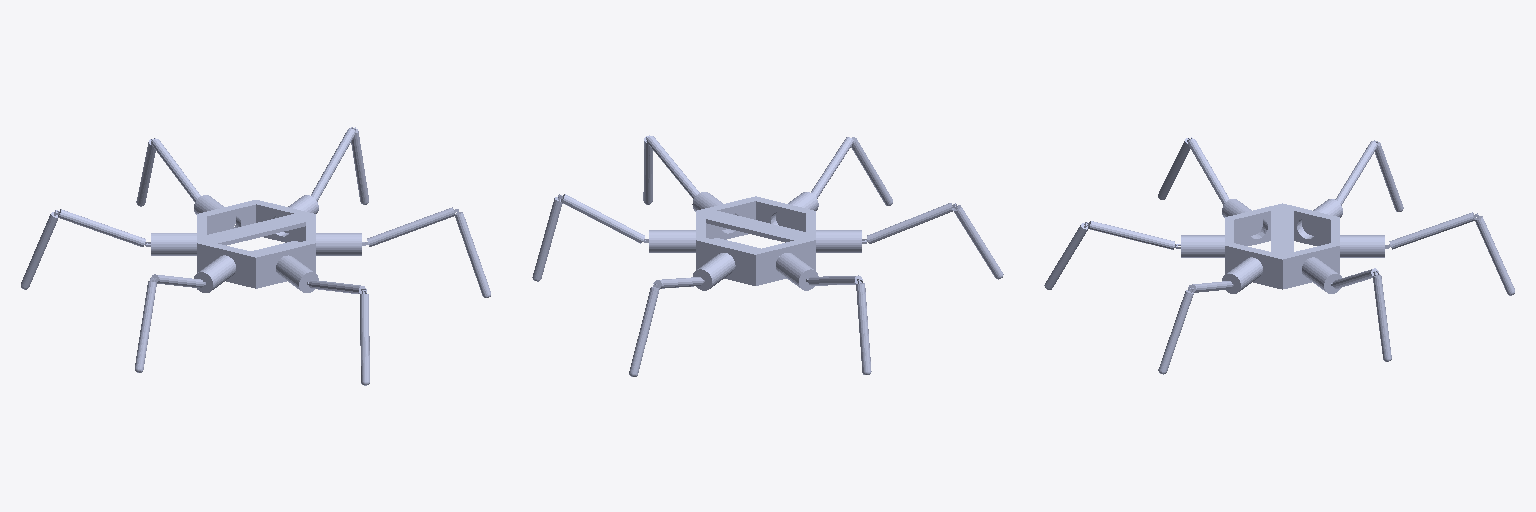
robot.urdf — urdf_bakchodi:
<?xml version="1.0" encoding="utf-8"?>
<!-- This URDF was automatically created by SolidWorks to URDF Exporter! Originally created by [author] ([email redacted]) 
     Commit Version: 1.6.0-1-g15f4949  Build Version: 1.6.7594.29634
     For more information, please see http://wiki.ros.org/sw_urdf_exporter -->
<robot
  name="urdf_bakchodi">
  <link
    name="link_1">
    <inertial>
      <origin
        xyz="-1.6529055557047E-07 -4.05828624854812E-06 0.0750014985203898"
        rpy="0 0 0" />
      <mass
        value="19.9950067969027" />
      <inertia
        ixx="0.334788848635103"
        ixy="8.31458883562114E-09"
        ixz="2.0443852111815E-08"
        iyy="0.368256213908722"
        iyz="1.87868476087456E-08"
        izz="0.6375748872154" />
    </inertial>
    <visual>
      <origin
        xyz="0 0 0"
        rpy="0 0 0" />
      <geometry>
        <mesh
          filename="package://urdf_bakchodi/meshes/link_1.STL" />
      </geometry>
      <material
        name="">
        <color
          rgba="0.792156862745098 0.819607843137255 0.933333333333333 1" />
      </material>
    </visual>
    <collision>
      <origin
        xyz="0 0 0"
        rpy="0 0 0" />
      <geometry>
        <mesh
          filename="package://urdf_bakchodi/meshes/link_1.STL" />
      </geometry>
    </collision>
  </link>
  <link
    name="link_2(1)">
    <inertial>
      <origin
        xyz="-0.00810356313851382 2.67064148573581E-13 -0.214790803607845"
        rpy="0 0 0" />
      <mass
        value="0.504491865664404" />
      <inertia
        ixx="0.00681160148226634"
        ixy="8.67361737988404E-19"
        ixz="-5.98005260761536E-18"
        iyy="0.00681168214152217"
        iyz="1.5811564026396E-17"
        izz="0.000100637529407539" />
    </inertial>
    <visual>
      <origin
        xyz="0 0 0"
        rpy="0 0 0" />
      <geometry>
        <mesh
          filename="package://urdf_bakchodi/meshes/link_2(1).STL" />
      </geometry>
      <material
        name="">
        <color
          rgba="0.792156862745098 0.819607843137255 0.933333333333333 1" />
      </material>
    </visual>
    <collision>
      <origin
        xyz="0 0 0"
        rpy="0 0 0" />
      <geometry>
        <mesh
          filename="package://urdf_bakchodi/meshes/link_2(1).STL" />
      </geometry>
    </collision>
  </link>
  <joint
    name="j1_1"
    type="continuous">
    <origin
      xyz="-0.41522 -0.23043 0.074128"
      rpy="2.0035 0.10823 2.0944" />
    <parent
      link="link_1" />
    <child
      link="link_2(1)" />
    <axis
      xyz="1 0 0" />
  </joint>
  <link
    name="link_3(1)">
    <inertial>
      <origin
        xyz="-0.0947261317748437 -0.190215442434137 0.00810286240868408"
        rpy="0 0 0" />
      <mass
        value="0.498815935879898" />
      <inertia
        ixx="0.00529685840188488"
        ixy="-0.00258844740197998"
        ixz="1.73472347597681E-18"
        iyy="0.00138814032549684"
        iyz="5.42101086242752E-18"
        izz="0.00658581250827965" />
    </inertial>
    <visual>
      <origin
        xyz="0 0 0"
        rpy="0 0 0" />
      <geometry>
        <mesh
          filename="package://urdf_bakchodi/meshes/link_3(1).STL" />
      </geometry>
      <material
        name="">
        <color
          rgba="0.792156862745098 0.819607843137255 0.933333333333333 1" />
      </material>
    </visual>
    <collision>
      <origin
        xyz="0 0 0"
        rpy="0 0 0" />
      <geometry>
        <mesh
          filename="package://urdf_bakchodi/meshes/link_3(1).STL" />
      </geometry>
    </collision>
  </link>
  <joint
    name="j2_1"
    type="continuous">
    <origin
      xyz="0 0 -0.43"
      rpy="-1.5708 -1.1671 1.5708" />
    <parent
      link="link_2(1)" />
    <child
      link="link_3(1)" />
    <axis
      xyz="0 0 1" />
  </joint>
  <link
    name="link_2(2)">
    <inertial>
      <origin
        xyz="-0.21083742886469 0.0410203352524196 0.0188772132838387"
        rpy="0 0 0" />
      <mass
        value="0.504491865664404" />
      <inertia
        ixx="0.000345406956335757"
        ixy="0.0012580725223286"
        ixz="1.08151744761832E-15"
        iyy="0.00656691271459396"
        iyz="-2.10445486358926E-16"
        izz="0.00681160148226635" />
    </inertial>
    <visual>
      <origin
        xyz="0 0 0"
        rpy="0 0 0" />
      <geometry>
        <mesh
          filename="package://urdf_bakchodi/meshes/link_2(2).STL" />
      </geometry>
      <material
        name="">
        <color
          rgba="0.792156862745098 0.819607843137255 0.933333333333333 1" />
      </material>
    </visual>
    <collision>
      <origin
        xyz="0 0 0"
        rpy="0 0 0" />
      <geometry>
        <mesh
          filename="package://urdf_bakchodi/meshes/link_2(2).STL" />
      </geometry>
    </collision>
  </link>
  <joint
    name="j1_2"
    type="continuous">
    <origin
      xyz="0.018274 -0.47481 0.070255"
      rpy="-1.2823 0.48453 1.7081" />
    <parent
      link="link_1" />
    <child
      link="link_2(2)" />
    <axis
      xyz="0 0 1" />
  </joint>
  <link
    name="link_3(2)">
    <inertial>
      <origin
        xyz="-0.211143760806933 0.0239429917538433 -0.0188761379470315"
        rpy="0 0 0" />
      <mass
        value="0.498815935879898" />
      <inertia
        ixx="0.00018146250815652"
        ixy="0.000726240456695398"
        ixz="-2.03919578161879E-16"
        iyy="0.0065035362192252"
        iyz="2.32608774956858E-17"
        izz="0.00658581250827966" />
    </inertial>
    <visual>
      <origin
        xyz="0 0 0"
        rpy="0 0 0" />
      <geometry>
        <mesh
          filename="package://urdf_bakchodi/meshes/link_3(2).STL" />
      </geometry>
      <material
        name="">
        <color
          rgba="0.792156862745098 0.819607843137255 0.933333333333333 1" />
      </material>
    </visual>
    <collision>
      <origin
        xyz="0 0 0"
        rpy="0 0 0" />
      <geometry>
        <mesh
          filename="package://urdf_bakchodi/meshes/link_3(2).STL" />
      </geometry>
    </collision>
  </link>
  <joint
    name="j2_2"
    type="continuous">
    <origin
      xyz="-0.42209 0.082121 0"
      rpy="-3.1416 0 -1.7494" />
    <parent
      link="link_2(2)" />
    <child
      link="link_3(2)" />
    <axis
      xyz="0 0 1" />
  </joint>
  <link
    name="link_2(3)">
    <inertial>
      <origin
        xyz="0.155834156805056 0.147820177537882 0.0142552690889025"
        rpy="0 0 0" />
      <mass
        value="0.504491865664404" />
      <inertia
        ixx="0.00327916668342931"
        ixy="-0.00335085114121483"
        ixz="1.70219741080224E-17"
        iyy="0.0036331529875004"
        iyz="1.6357900277375E-17"
        izz="0.00681160148226634" />
    </inertial>
    <visual>
      <origin
        xyz="0 0 0"
        rpy="0 0 0" />
      <geometry>
        <mesh
          filename="package://urdf_bakchodi/meshes/link_2(3).STL" />
      </geometry>
      <material
        name="">
        <color
          rgba="0.792156862745098 0.819607843137255 0.933333333333333 1" />
      </material>
    </visual>
    <collision>
      <origin
        xyz="0 0 0"
        rpy="0 0 0" />
      <geometry>
        <mesh
          filename="package://urdf_bakchodi/meshes/link_2(3).STL" />
      </geometry>
    </collision>
  </link>
  <joint
    name="j1_3"
    type="continuous">
    <origin
      xyz="0.4182 -0.22528 0.072296"
      rpy="1.3639 0.38863 -0.60297" />
    <parent
      link="link_1" />
    <child
      link="link_2(3)" />
    <axis
      xyz="0 0 1" />
  </joint>
  <link
    name="link_3(3)">
    <inertial>
      <origin
        xyz="0.0579003990729846 -0.204456592871259 0.0142543045889016"
        rpy="0 0 0" />
      <mass
        value="0.498815935879898" />
      <inertia
        ixx="0.00610428899257975"
        ixy="0.00170061672599953"
        ixz="-2.38524477946811E-18"
        iyy="0.000580709734801973"
        iyz="7.15573433840433E-18"
        izz="0.00658581250827966" />
    </inertial>
    <visual>
      <origin
        xyz="0 0 0"
        rpy="0 0 0" />
      <geometry>
        <mesh
          filename="package://urdf_bakchodi/meshes/link_3(3).STL" />
      </geometry>
      <material
        name="">
        <color
          rgba="0.792156862745098 0.819607843137255 0.933333333333333 1" />
      </material>
    </visual>
    <collision>
      <origin
        xyz="0 0 0"
        rpy="0 0 0" />
      <geometry>
        <mesh
          filename="package://urdf_bakchodi/meshes/link_3(3).STL" />
      </geometry>
    </collision>
  </link>
  <joint
    name="j2_3"
    type="continuous">
    <origin
      xyz="0.31197 0.29593 0"
      rpy="0 0 0.44765" />
    <parent
      link="link_2(3)" />
    <child
      link="link_3(3)" />
    <axis
      xyz="0 0 1" />
  </joint>
  <link
    name="link_2(4)">
    <inertial>
      <origin
        xyz="-0.0680759478787354 0.203717340044866 1.44121984343437E-05"
        rpy="0 0 0" />
      <mass
        value="0.504491865664404" />
      <inertia
        ixx="0.00613754826111445"
        ixy="0.00201734629085851"
        ixz="2.02528965820292E-16"
        iyy="0.000774771409815259"
        iyz="-6.05174547627096E-16"
        izz="0.00681160148226634" />
    </inertial>
    <visual>
      <origin
        xyz="0 0 0"
        rpy="0 0 0" />
      <geometry>
        <mesh
          filename="package://urdf_bakchodi/meshes/link_2(4).STL" />
      </geometry>
      <material
        name="">
        <color
          rgba="0.792156862745098 0.819607843137255 0.933333333333333 1" />
      </material>
    </visual>
    <collision>
      <origin
        xyz="0 0 0"
        rpy="0 0 0" />
      <geometry>
        <mesh
          filename="package://urdf_bakchodi/meshes/link_2(4).STL" />
      </geometry>
    </collision>
  </link>
  <joint
    name="j1_4"
    type="continuous">
    <origin
      xyz="0.4112 0.23739 0.075003"
      rpy="1.5705 -0.72682 -2.6178" />
    <parent
      link="link_1" />
    <child
      link="link_2(4)" />
    <axis
      xyz="0 0 1" />
  </joint>
  <link
    name="link_3(4)">
    <inertial>
      <origin
        xyz="0.209311813366109 0.0366540498044644 -1.75753837648451E-05"
        rpy="0 0 0" />
      <mass
        value="0.498815935879898" />
      <inertia
        ixx="0.00029211390319112"
        ixy="-0.0011021468801205"
        ixz="-2.44867060655851E-16"
        iyy="0.00639288482419059"
        iyz="-4.27175655959289E-17"
        izz="0.00658581250827965" />
    </inertial>
    <visual>
      <origin
        xyz="0 0 0"
        rpy="0 0 0" />
      <geometry>
        <mesh
          filename="package://urdf_bakchodi/meshes/link_3(4).STL" />
      </geometry>
      <material
        name="">
        <color
          rgba="0.792156862745098 0.819607843137255 0.933333333333333 1" />
      </material>
    </visual>
    <collision>
      <origin
        xyz="0 0 0"
        rpy="0 0 0" />
      <geometry>
        <mesh
          filename="package://urdf_bakchodi/meshes/link_3(4).STL" />
      </geometry>
    </collision>
  </link>
  <joint
    name="j2_4"
    type="continuous">
    <origin
      xyz="-0.13628 0.40783 0"
      rpy="3.1416 0 -2.3724" />
    <parent
      link="link_2(4)" />
    <child
      link="link_3(4)" />
    <axis
      xyz="0 0 1" />
  </joint>
  <link
    name="link_2(5)">
    <inertial>
      <origin
        xyz="-0.16062877292981 -0.142595535068648 0.00503523317546434"
        rpy="0 0 0" />
      <mass
        value="0.504491865664404" />
      <inertia
        ixx="0.00305844985544591"
        ixy="-0.00333186985313675"
        ixz="-1.71195146431958E-16"
        iyy="0.00385386981548379"
        iyz="-1.52085376545478E-16"
        izz="0.00681160148226633" />
    </inertial>
    <visual>
      <origin
        xyz="0 0 0"
        rpy="0 0 0" />
      <geometry>
        <mesh
          filename="package://urdf_bakchodi/meshes/link_2(5).STL" />
      </geometry>
      <material
        name="">
        <color
          rgba="0.792156862745098 0.819607843137255 0.933333333333333 1" />
      </material>
    </visual>
    <collision>
      <origin
        xyz="0 0 0"
        rpy="0 0 0" />
      <geometry>
        <mesh
          filename="package://urdf_bakchodi/meshes/link_2(5).STL" />
      </geometry>
    </collision>
  </link>
  <joint
    name="j1_5"
    type="continuous">
    <origin
      xyz="-0.0050333 0.47481 0.074656"
      rpy="-1.4987 -0.36728 -1.5967" />
    <parent
      link="link_1" />
    <child
      link="link_2(5)" />
    <axis
      xyz="0 0 1" />
  </joint>
  <link
    name="link_3(5)">
    <inertial>
      <origin
        xyz="-0.0475222750500123 -0.207114914853979 -0.00503782034930849"
        rpy="0 0 0" />
      <mass
        value="0.498815935879898" />
      <inertia
        ixx="0.00626146152632296"
        ixy="-0.00141394451663058"
        ixz="-1.06424125755829E-19"
        iyy="0.000423537201058755"
        iyz="-5.2188607376729E-19"
        izz="0.00658581250827966" />
    </inertial>
    <visual>
      <origin
        xyz="0 0 0"
        rpy="0 0 0" />
      <geometry>
        <mesh
          filename="package://urdf_bakchodi/meshes/link_3(5).STL" />
      </geometry>
      <material
        name="">
        <color
          rgba="0.792156862745098 0.819607843137255 0.933333333333333 1" />
      </material>
    </visual>
    <collision>
      <origin
        xyz="0 0 0"
        rpy="0 0 0" />
      <geometry>
        <mesh
          filename="package://urdf_bakchodi/meshes/link_3(5).STL" />
      </geometry>
    </collision>
  </link>
  <joint
    name="j2_5"
    type="continuous">
    <origin
      xyz="-0.32157 -0.28547 0"
      rpy="-3.1416 0 0.53485" />
    <parent
      link="link_2(5)" />
    <child
      link="link_3(5)" />
    <axis
      xyz="0 0 1" />
  </joint>
  <link
    name="link_2(6)">
    <inertial>
      <origin
        xyz="-0.21139741682832 0.0380292186715435 -0.00901168359242732"
        rpy="0 0 0" />
      <mass
        value="0.504491865664404" />
      <inertia
        ixx="0.000311012256476399"
        ixy="0.00116943433027736"
        ixz="-4.55012546737854E-16"
        iyy="0.00660130741445331"
        iyz="8.13151629364128E-17"
        izz="0.00681160148226634" />
    </inertial>
    <visual>
      <origin
        xyz="0 0 0"
        rpy="0 0 0" />
      <geometry>
        <mesh
          filename="package://urdf_bakchodi/meshes/link_2(6).STL" />
      </geometry>
      <material
        name="">
        <color
          rgba="0.792156862745098 0.819607843137255 0.933333333333333 1" />
      </material>
    </visual>
    <collision>
      <origin
        xyz="0 0 0"
        rpy="0 0 0" />
      <geometry>
        <mesh
          filename="package://urdf_bakchodi/meshes/link_2(6).STL" />
      </geometry>
    </collision>
  </link>
  <joint
    name="j1_6"
    type="continuous">
    <origin
      xyz="-0.41567 0.22965 0.073922"
      rpy="1.694 0.2113 -0.49763" />
    <parent
      link="link_1" />
    <child
      link="link_2(6)" />
    <axis
      xyz="0 0 1" />
  </joint>
  <link
    name="link_3(6)">
    <inertial>
      <origin
        xyz="-0.0966239748784632 -0.189258453074142 -0.0090122701394556"
        rpy="0 0 0" />
      <mass
        value="0.498815935879898" />
      <inertia
        ixx="0.00524468936915548"
        ixy="-0.00262702348411622"
        ixz="-1.73472347597681E-18"
        iyy="0.00144030935822624"
        iyz="-4.89246230334084E-18"
        izz="0.00658581250827966" />
    </inertial>
    <visual>
      <origin
        xyz="0 0 0"
        rpy="0 0 0" />
      <geometry>
        <mesh
          filename="package://urdf_bakchodi/meshes/link_3(6).STL" />
      </geometry>
      <material
        name="">
        <color
          rgba="0.792156862745098 0.819607843137255 0.933333333333333 1" />
      </material>
    </visual>
    <collision>
      <origin
        xyz="0 0 0"
        rpy="0 0 0" />
      <geometry>
        <mesh
          filename="package://urdf_bakchodi/meshes/link_3(6).STL" />
      </geometry>
    </collision>
  </link>
  <joint
    name="j2_6"
    type="continuous">
    <origin
      xyz="-0.42321 0.076133 0"
      rpy="0 0 0.33893" />
    <parent
      link="link_2(6)" />
    <child
      link="link_3(6)" />
    <axis
      xyz="0 0 1" />
  </joint>
</robot>

--- What the picture shows (computed from the rendered views, not written in the file) ---
3 views of the same robot in one strip: view 1: azimuth 30°, elevation 25°; view 2: azimuth 150°, elevation 25°; view 3: azimuth 270°, elevation 25° (orthographic).
Model urdf_bakchodi with 13 links and 12 joints (12 continuous), rooted at link_1, posed all joints at 0.
Links seen in each view (by area): view 1: link_1, link_2(3), link_3(1), link_2(6), link_3(2), link_3(3), link_3(6), link_2(4), link_2(5), link_3(4), link_3(5); view 2: link_1, link_3(5), link_3(6), link_2(4), link_2(1), link_3(4), link_3(1), link_2(3), link_3(2), link_2(2), link_3(3); view 3: link_1, link_2(2), link_2(5), link_3(4), link_3(3), link_3(5), link_3(2), link_2(1), link_2(6), link_3(6), link_3(1).
Link boxes in pixels (x1=…): link_1: x1=146, y1=195, x2=365, y2=292; link_2(3): x1=364, y1=207, x2=458, y2=246; link_3(1): x1=135, y1=278, x2=156, y2=372; link_2(6): x1=55, y1=209, x2=148, y2=246; link_3(2): x1=360, y1=289, x2=369, y2=385; link_3(3): x1=455, y1=210, x2=490, y2=297; link_3(6): x1=21, y1=210, x2=57, y2=289; link_2(4): x1=311, y1=127, x2=355, y2=201; link_2(5): x1=151, y1=138, x2=200, y2=201; link_3(4): x1=351, y1=127, x2=368, y2=204; link_3(5): x1=136, y1=138, x2=155, y2=206; link_1: x1=645, y1=192, x2=866, y2=290; link_3(5): x1=629, y1=283, x2=659, y2=376; link_3(6): x1=856, y1=279, x2=871, y2=374; link_2(4): x1=558, y1=194, x2=646, y2=243; link_2(1): x1=864, y1=203, x2=956, y2=243; link_3(4): x1=532, y1=195, x2=562, y2=281; link_3(1): x1=954, y1=203, x2=1003, y2=279; link_2(3): x1=646, y1=135, x2=699, y2=199; link_3(2): x1=851, y1=137, x2=892, y2=205; link_2(2): x1=811, y1=137, x2=853, y2=198; link_3(3): x1=643, y1=136, x2=652, y2=204; link_1: x1=1176, y1=199, x2=1388, y2=293; link_2(2): x1=1085, y1=221, x2=1178, y2=249; link_2(5): x1=1386, y1=212, x2=1478, y2=249; link_3(4): x1=1373, y1=271, x2=1391, y2=361; link_3(3): x1=1158, y1=288, x2=1193, y2=374; link_3(5): x1=1475, y1=213, x2=1514, y2=295; link_3(2): x1=1044, y1=223, x2=1087, y2=289; link_2(1): x1=1188, y1=137, x2=1229, y2=205; link_2(6): x1=1335, y1=140, x2=1377, y2=205; link_3(6): x1=1374, y1=141, x2=1403, y2=211; link_3(1): x1=1158, y1=138, x2=1192, y2=199.
Bounding box of the posed robot: 1.79 × 2.12 × 0.4648 m (x, y, z).
Meshes: 13 distinct files referenced, 13 mesh visuals loaded (13 binary STL).
